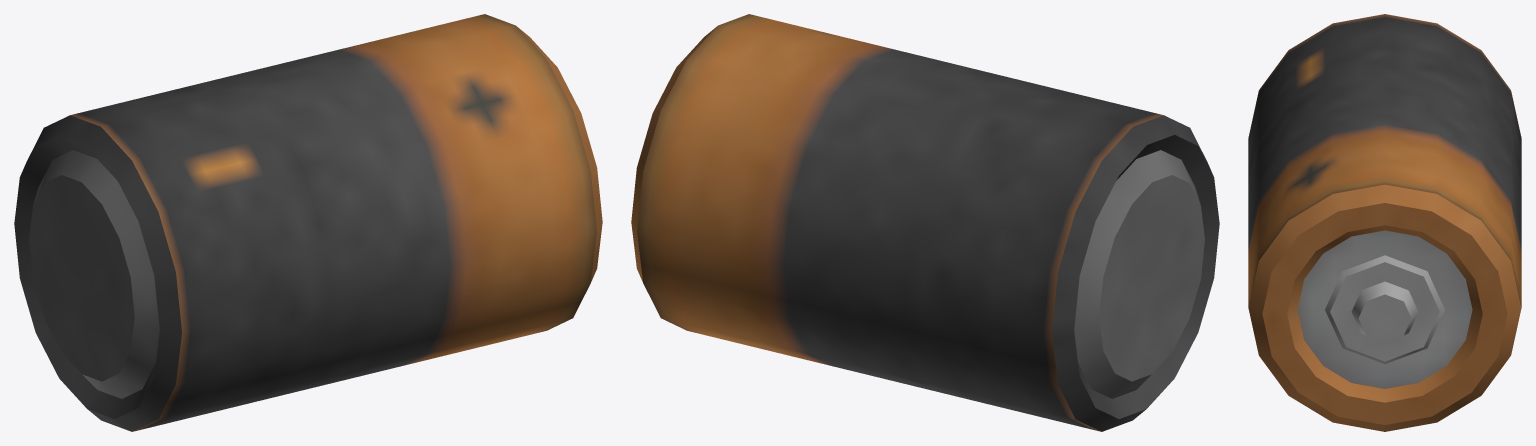
Rendered from battery_mp_2.obj.
The picture shows the model from 3 angles, left to right: view 1: azimuth 30°, elevation 25°; view 2: azimuth 150°, elevation 25°; view 3: azimuth 270°, elevation 25°; orthographic projection. The views are drawn at different scales.
Parts seen in each view (by area): view 1: battery_mp_2; view 2: battery_mp_2; view 3: battery_mp_2.
Part boxes in pixels (bbox=[...]): battery_mp_2: bbox=[14, 14, 602, 431]; battery_mp_2: bbox=[631, 14, 1219, 431]; battery_mp_2: bbox=[1248, 14, 1521, 431].
Size of the model in its own units: 0.0883 by 0.054 by 0.054.
